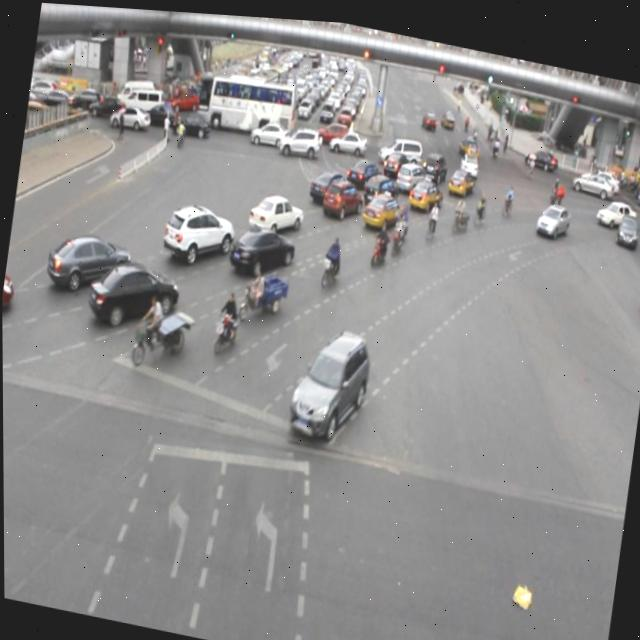car: (286, 318, 372, 437), (87, 253, 180, 329), (46, 226, 133, 293), (159, 193, 236, 264), (227, 216, 296, 275), (246, 185, 306, 233), (360, 183, 406, 229), (321, 172, 364, 218), (360, 164, 400, 207), (308, 160, 346, 204), (404, 169, 443, 209), (533, 192, 570, 233), (393, 151, 428, 190), (345, 150, 380, 184), (446, 159, 473, 190), (2, 269, 18, 320)
